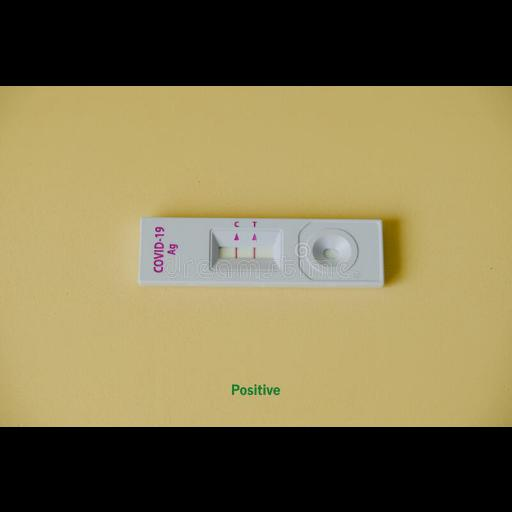Pos: (142, 214, 382, 280)
